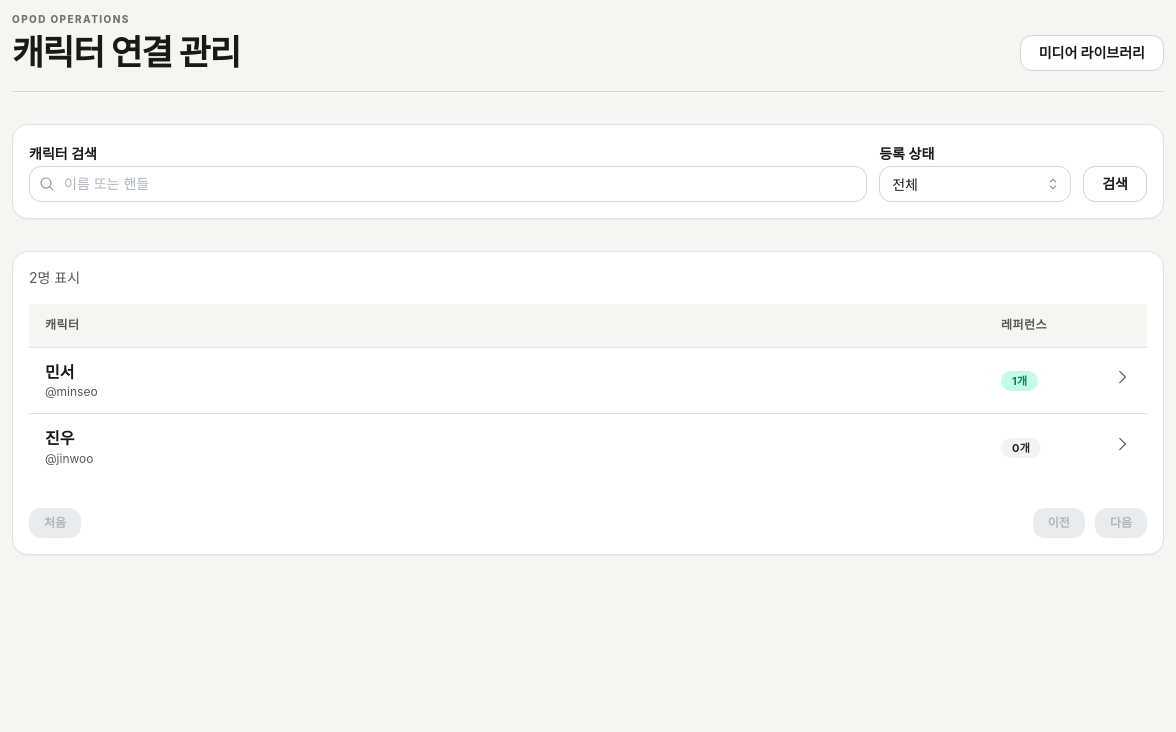
Scenario: character SNS reference list and detail › saves new references under the detail character and updates the list count on return
This screenshot has width=1176, height=732.
Click the row "민서 @minseo 1개": click(588, 380) [29,347,1147,414]
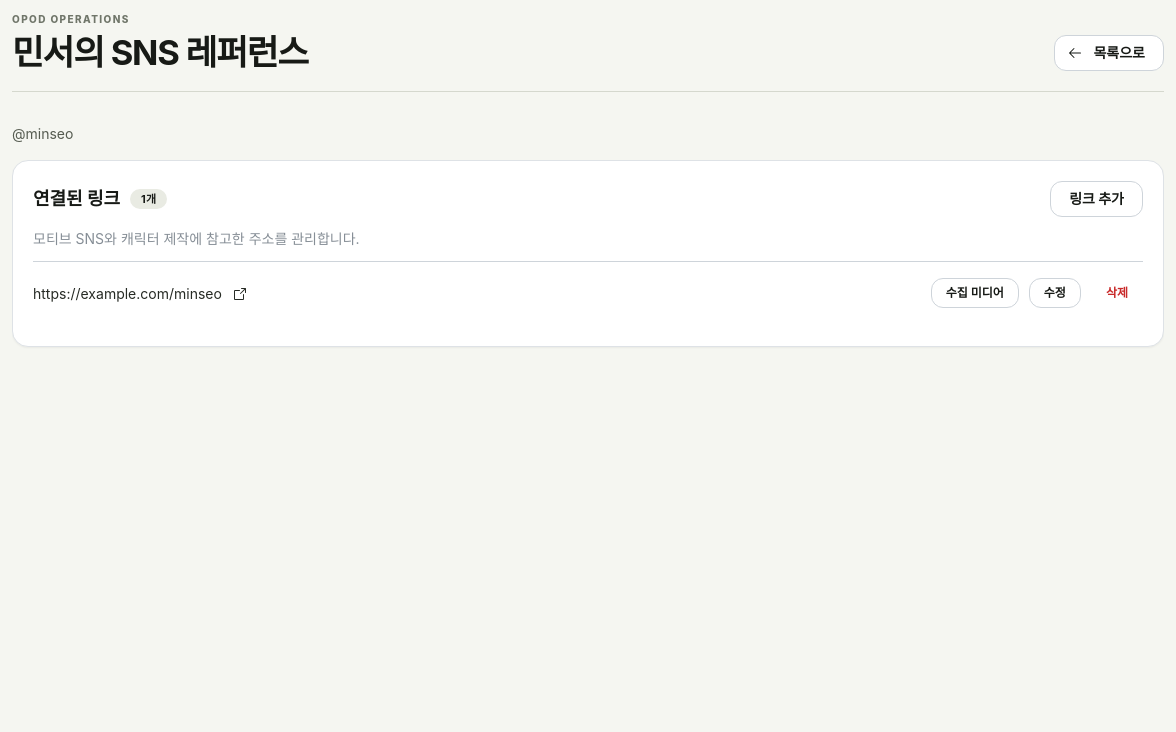
Click the button "링크 추가": click(1097, 199) [1050,181,1143,217]
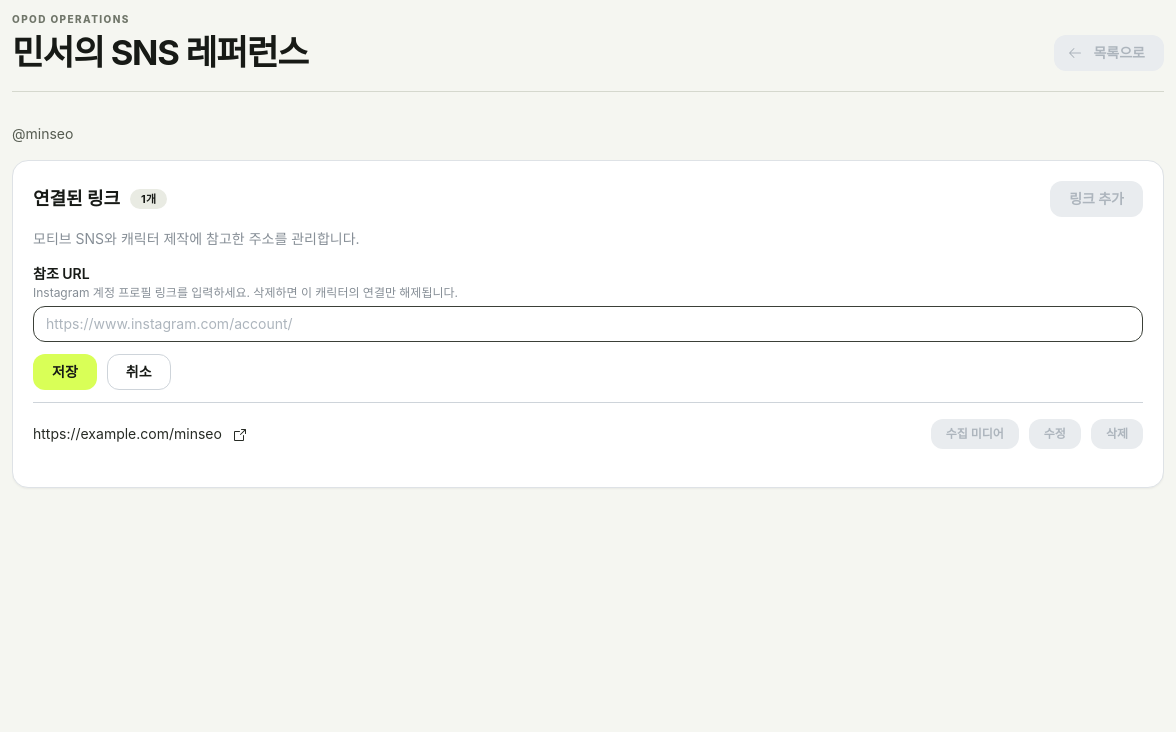
In the field labelled "참조 URL": (588, 324) [33,306,1143,342], type "https://example.org/new"
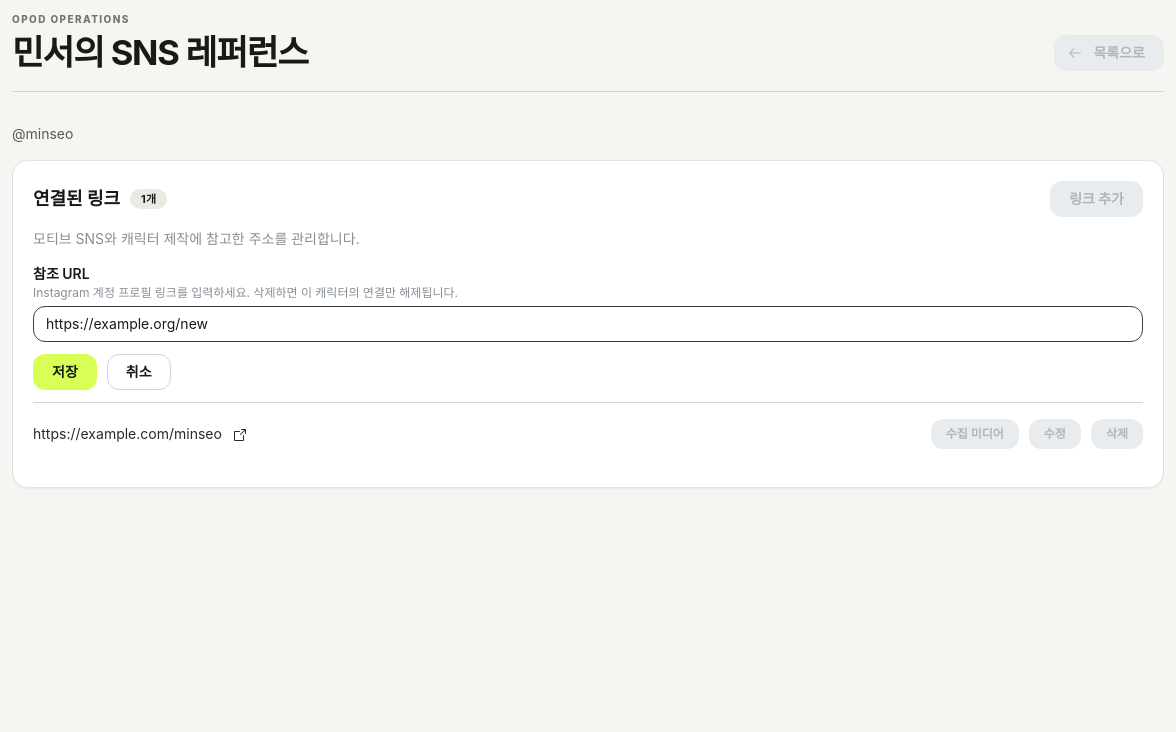
Check: the button "목록으로" is disabled, box [1054,35,1164,71]
Click the button "저장": click(65, 372) [33,354,97,390]
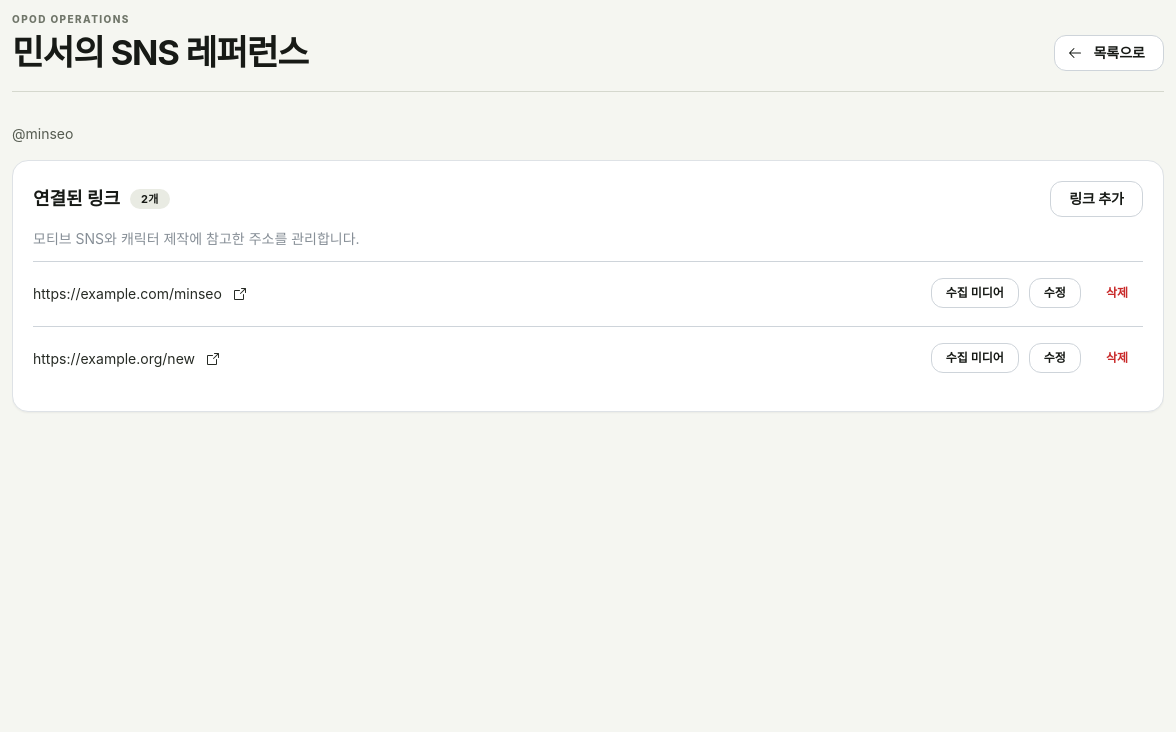
Check: the link with aria-label "https://example.org/new 새 탭에서 열기" is shown, box [33,350,221,368]
Check: the button "목록으로" is enabled
Click the button "목록으로": click(1109, 53) [1054,35,1164,71]
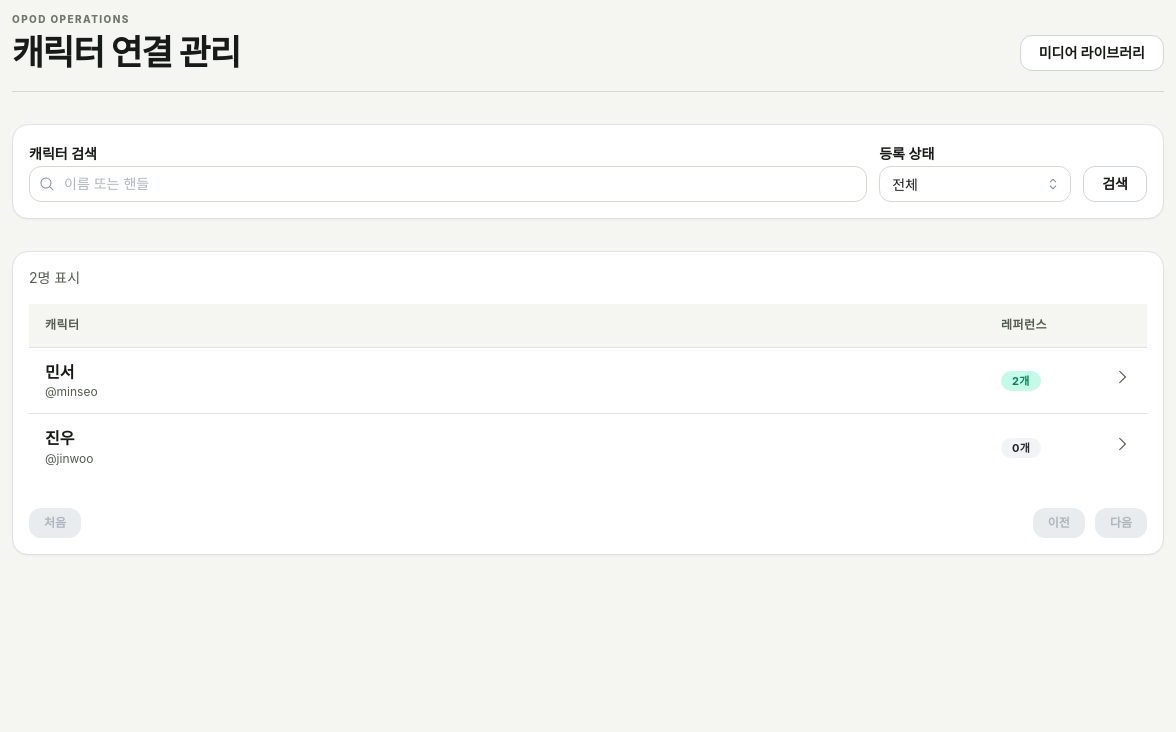
Check: the row "민서 @minseo 2개" is shown, box [29,347,1147,414]
